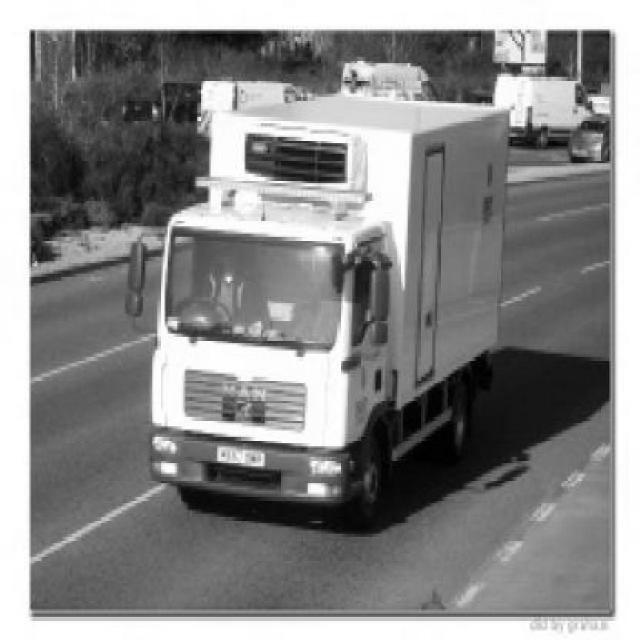Box Truck: (122, 96, 509, 520)
